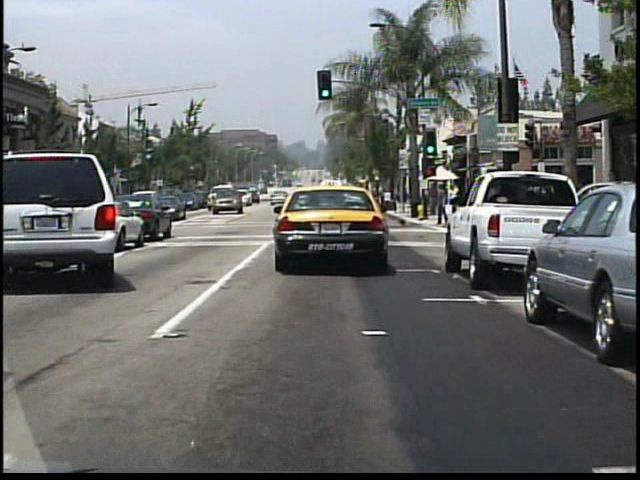person: (436, 182, 449, 225), (446, 182, 459, 215), (426, 182, 437, 216)
